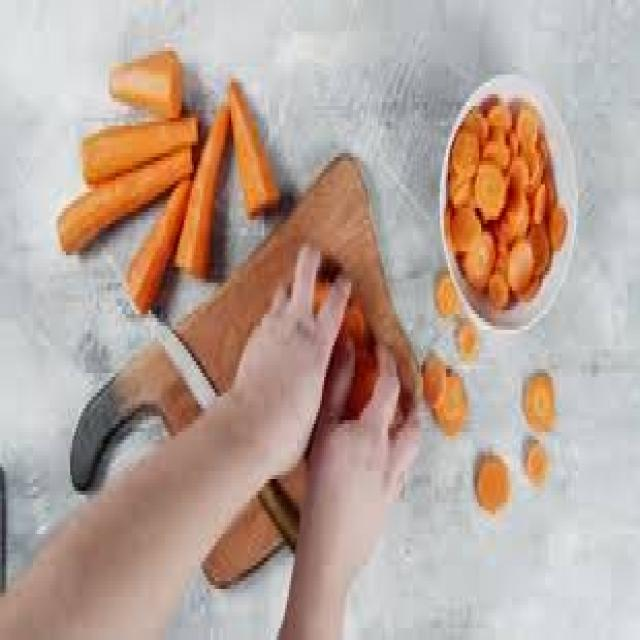Carrot: (444, 76, 568, 320), (38, 137, 202, 238), (176, 93, 240, 290), (74, 110, 205, 196), (120, 177, 191, 324), (223, 71, 290, 221), (415, 320, 476, 442), (106, 47, 189, 130), (426, 255, 487, 342), (507, 360, 569, 434), (471, 443, 516, 519), (516, 437, 552, 484)
